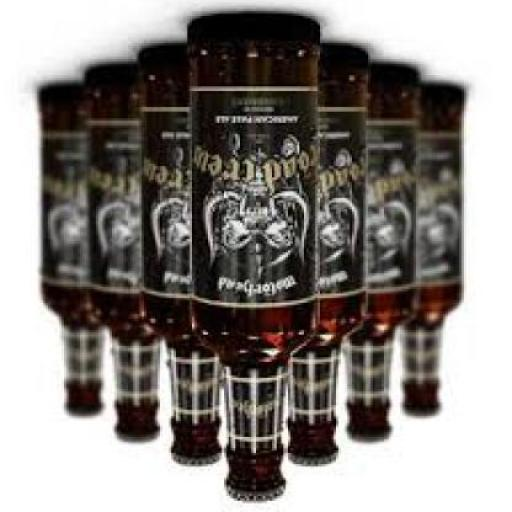glass: (187, 14, 323, 491), (138, 44, 224, 460), (288, 48, 368, 458), (345, 64, 423, 437), (86, 64, 163, 437), (41, 86, 110, 412), (410, 89, 464, 414)
metal: (226, 487, 288, 505), (290, 459, 341, 469), (176, 461, 222, 469), (352, 439, 394, 446), (73, 414, 108, 422), (412, 416, 444, 423), (123, 441, 160, 446)
